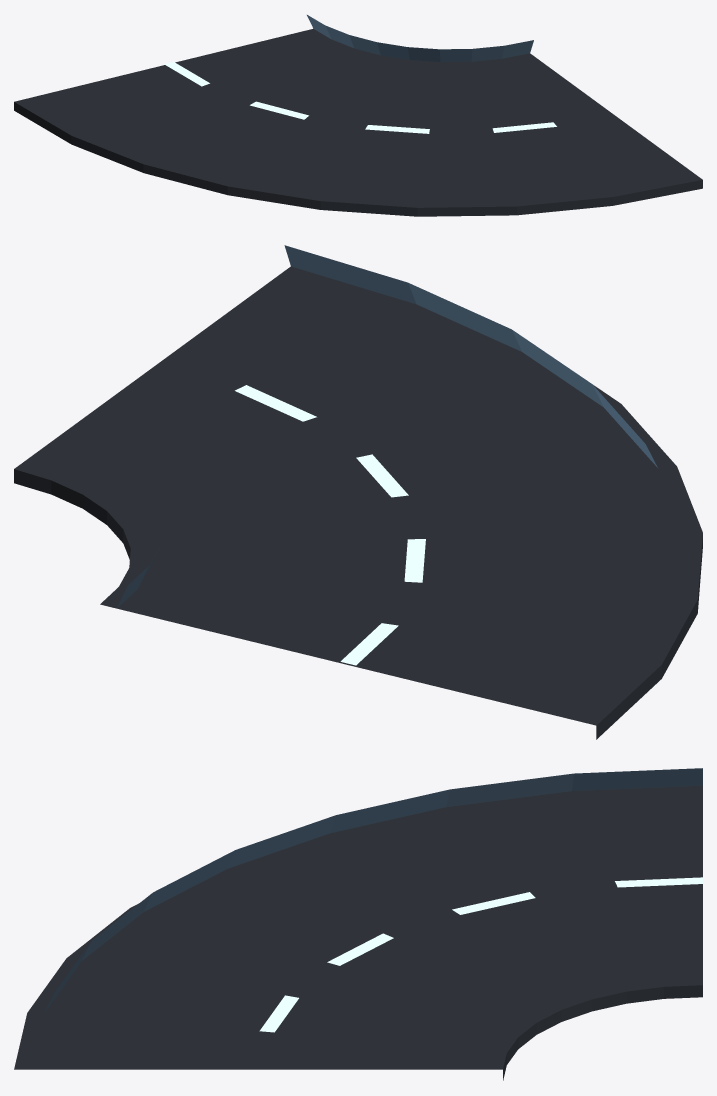
Rendered from road_future_curve.glb.
The picture shows the model from 3 angles, top to bottom: view 1: azimuth 30°, elevation 25°; view 2: azimuth 150°, elevation 25°; view 3: azimuth 270°, elevation 25°; orthographic projection. The views are drawn at different scales.
Parts seen in each view (by area): view 1: body; view 2: body; view 3: body.
Part boxes in pixels (x1=…): body: x1=14, y1=15, x2=702, y2=216; body: x1=14, y1=245, x2=702, y2=739; body: x1=14, y1=768, x2=702, y2=1080.
Size of what is drawn, in the model's own units: 6.2 by 0.34 by 6.2.
